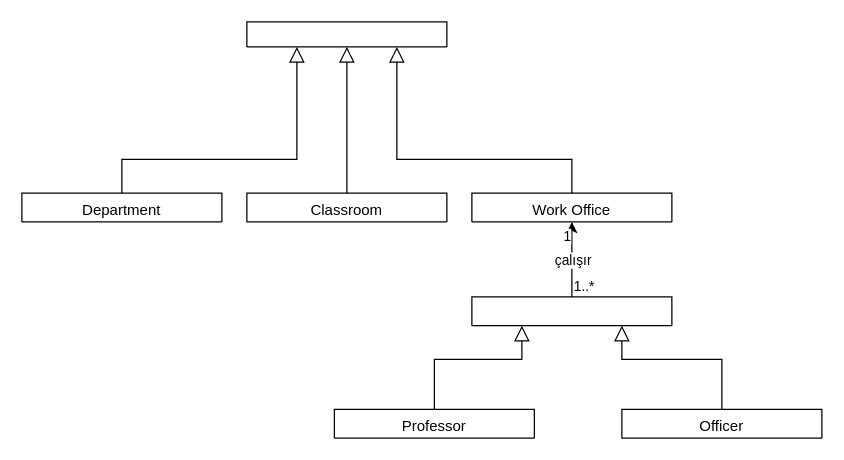
The diagram is 844 pixels wide and 460 high, and some of its shapes have lost their labels. The box of each missing label's shape, as (x1, y1, x2, y2) in pixels:
Employee: (471, 296, 672, 326)
University: (246, 21, 447, 47)
